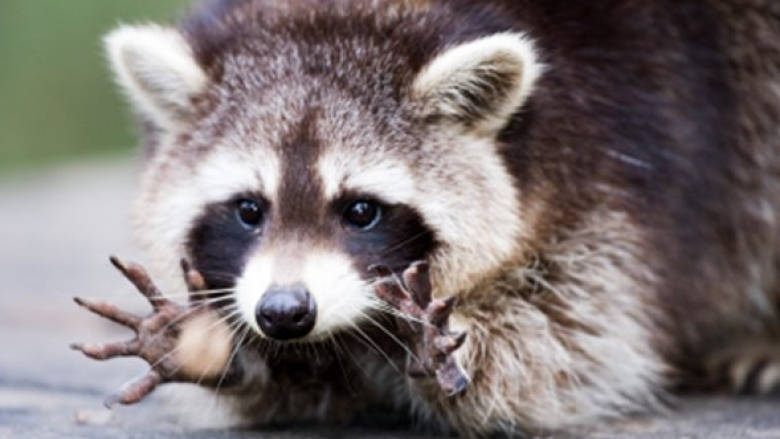raccoon: (82, 3, 625, 439)
